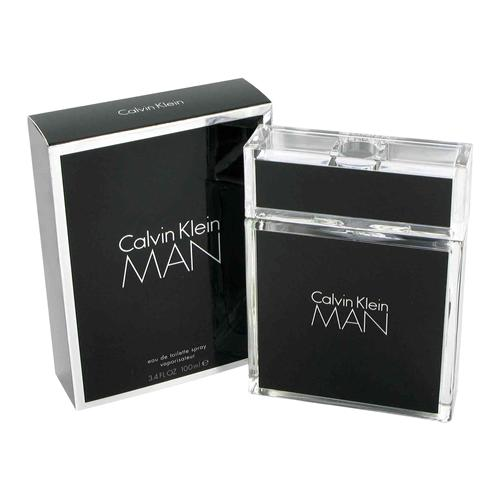Calvin Klein: (110, 213, 229, 257), (99, 93, 195, 121), (307, 287, 397, 316)
